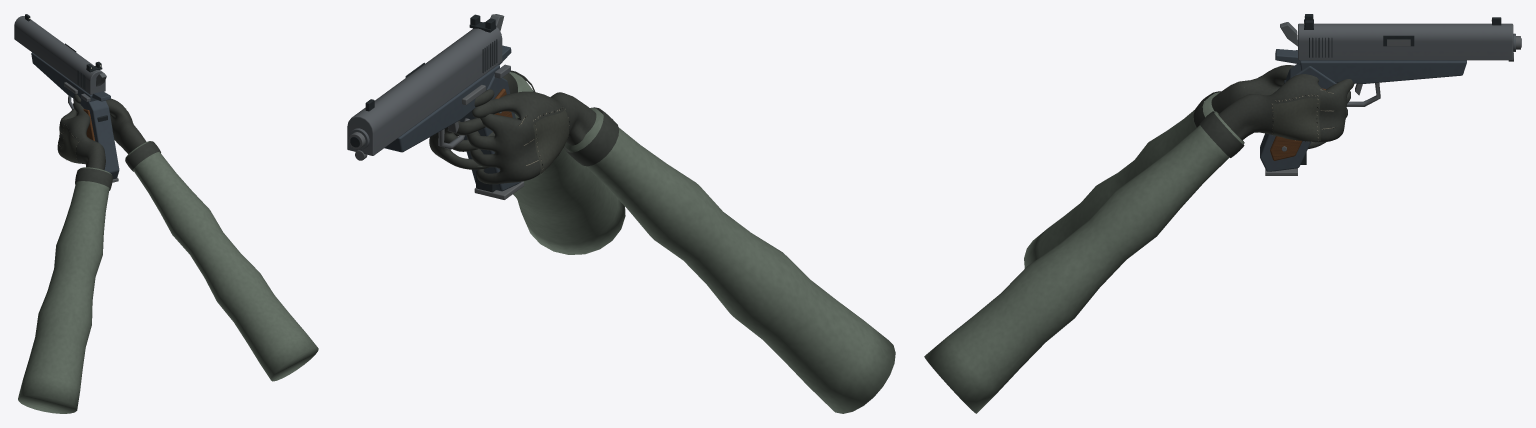
3 views of the same model, side by side, from view 1: azimuth 30°, elevation 25°; view 2: azimuth 150°, elevation 25°; view 3: azimuth 270°, elevation 25° (orthographic). The views are drawn at different scales.
Visible parts, largest first — view 1: hand_l / library v3 textured assembly, hand_r / library v3 textured assembly, slide / weapon textured assembly, vm_m1911 / weapon textured assembly; view 2: hand_l / library v3 textured assembly, hand_r / library v3 textured assembly, slide / weapon textured assembly, vm_m1911 / weapon textured assembly, mag / weapon textured assembly; view 3: hand_r / library v3 textured assembly, slide / weapon textured assembly, hand_l / library v3 textured assembly, vm_m1911 / weapon textured assembly.
Boxes of the visible parts, x1=… form: hand_l / library v3 textured assembly: x1=18, y1=101, x2=112, y2=413; hand_r / library v3 textured assembly: x1=74, y1=94, x2=318, y2=381; slide / weapon textured assembly: x1=14, y1=14, x2=105, y2=94; vm_m1911 / weapon textured assembly: x1=31, y1=52, x2=119, y2=179; hand_l / library v3 textured assembly: x1=466, y1=91, x2=895, y2=413; hand_r / library v3 textured assembly: x1=429, y1=70, x2=625, y2=254; slide / weapon textured assembly: x1=347, y1=14, x2=502, y2=160; vm_m1911 / weapon textured assembly: x1=384, y1=45, x2=520, y2=191; mag / weapon textured assembly: x1=474, y1=170, x2=524, y2=199; hand_r / library v3 textured assembly: x1=924, y1=74, x2=1354, y2=413; slide / weapon textured assembly: x1=1298, y1=14, x2=1521, y2=61; hand_l / library v3 textured assembly: x1=1024, y1=65, x2=1325, y2=268; vm_m1911 / weapon textured assembly: x1=1260, y1=49, x2=1466, y2=171.
Size of the model in its own units: 0.4538 by 0.4401 by 0.653.
6 materials, 6 textured.
